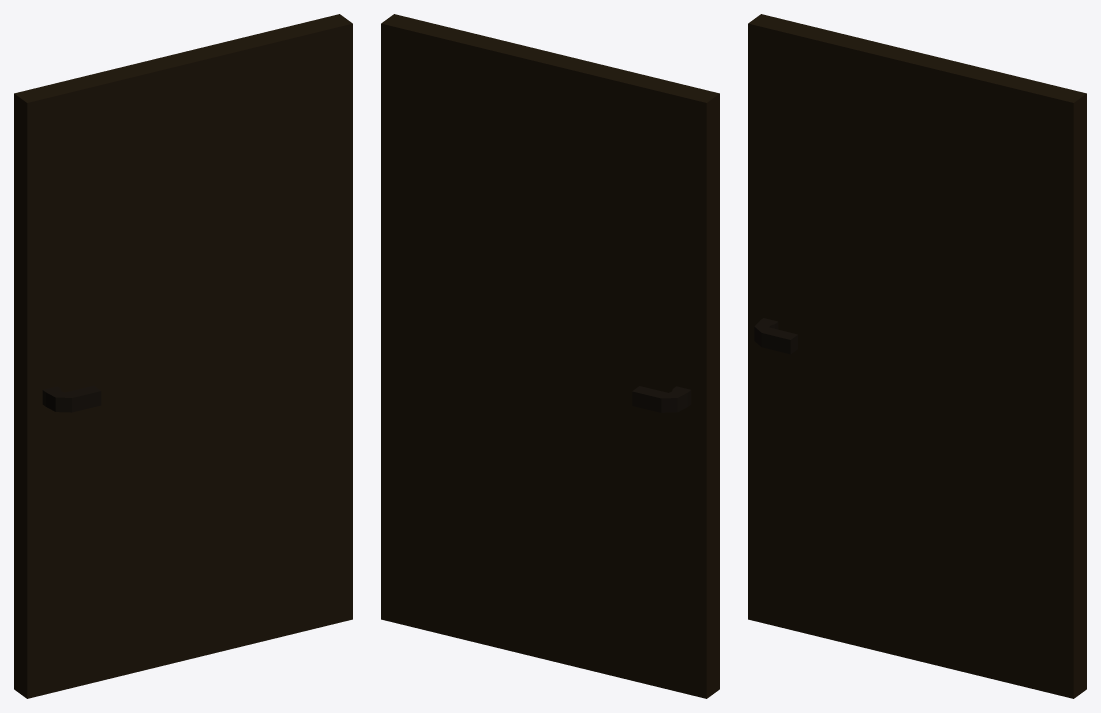
File: penhut_door.glb
The picture shows the model from 3 angles, left to right: view 1: azimuth 30°, elevation 25°; view 2: azimuth 150°, elevation 25°; view 3: azimuth 330°, elevation 25°; orthographic projection.
Visible parts, largest first — view 1: Door.001; view 2: Door.001; view 3: Door.001.
Part boxes in pixels (box(x1,y1,x2,y2)): Door.001: box(14, 14, 352, 698); Door.001: box(381, 14, 719, 698); Door.001: box(748, 14, 1086, 698).
Size of the model in its own units: 1.44 by 2.52 by 0.3472.
